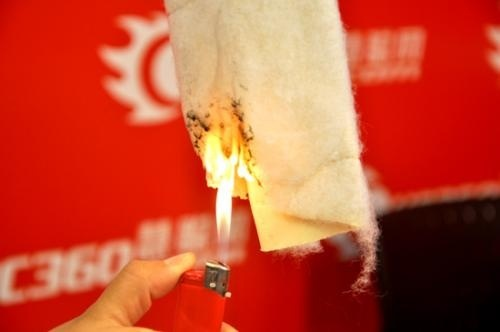fire: (195, 121, 259, 245)
